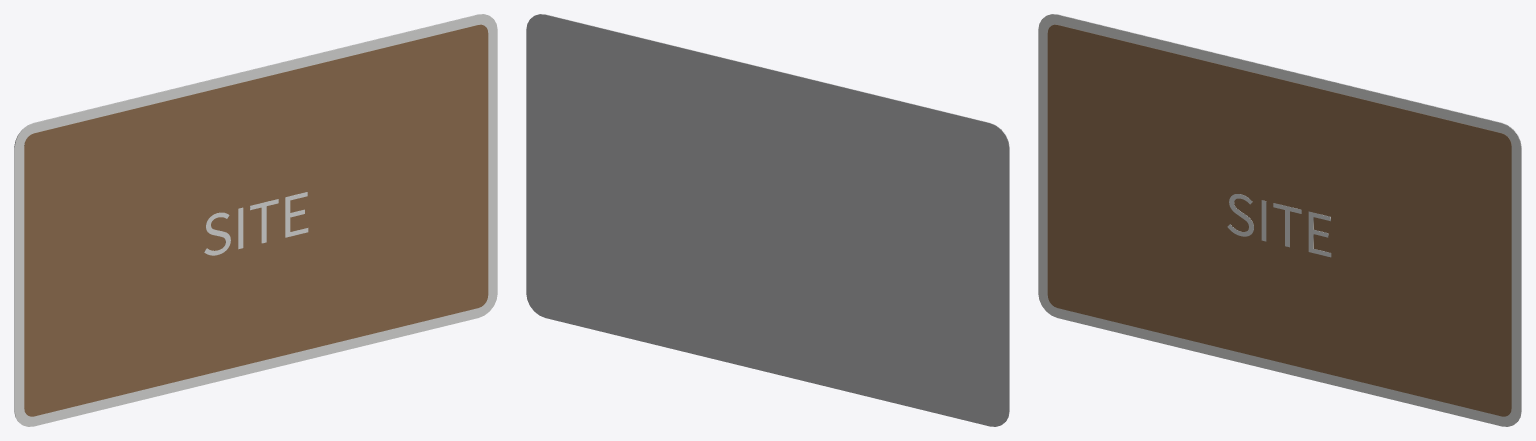
3 views of the same model, side by side, from view 1: azimuth 30°, elevation 25°; view 2: azimuth 150°, elevation 25°; view 3: azimuth 330°, elevation 25° (orthographic).
Parts seen in each view (by area): view 1: H31_r01, H31_r00, H31_txt02, H31_dos; view 2: H31_dos; view 3: H31_r01, H31_r00, H31_txt02, H31_dos.
Part boxes in pixels (box(x1,y1,x2,y2)): H31_r01: box(24, 24, 488, 416); H31_r00: box(14, 14, 497, 426); H31_txt02: box(204, 192, 308, 255); H31_dos: box(14, 14, 487, 420); H31_dos: box(526, 14, 1009, 426); H31_r01: box(1047, 24, 1511, 416); H31_r00: box(1038, 14, 1521, 426); H31_txt02: box(1227, 194, 1331, 257); H31_dos: box(1048, 14, 1521, 420).
Size of the model in its own units: 1 by 0.6 by 0.0025.
